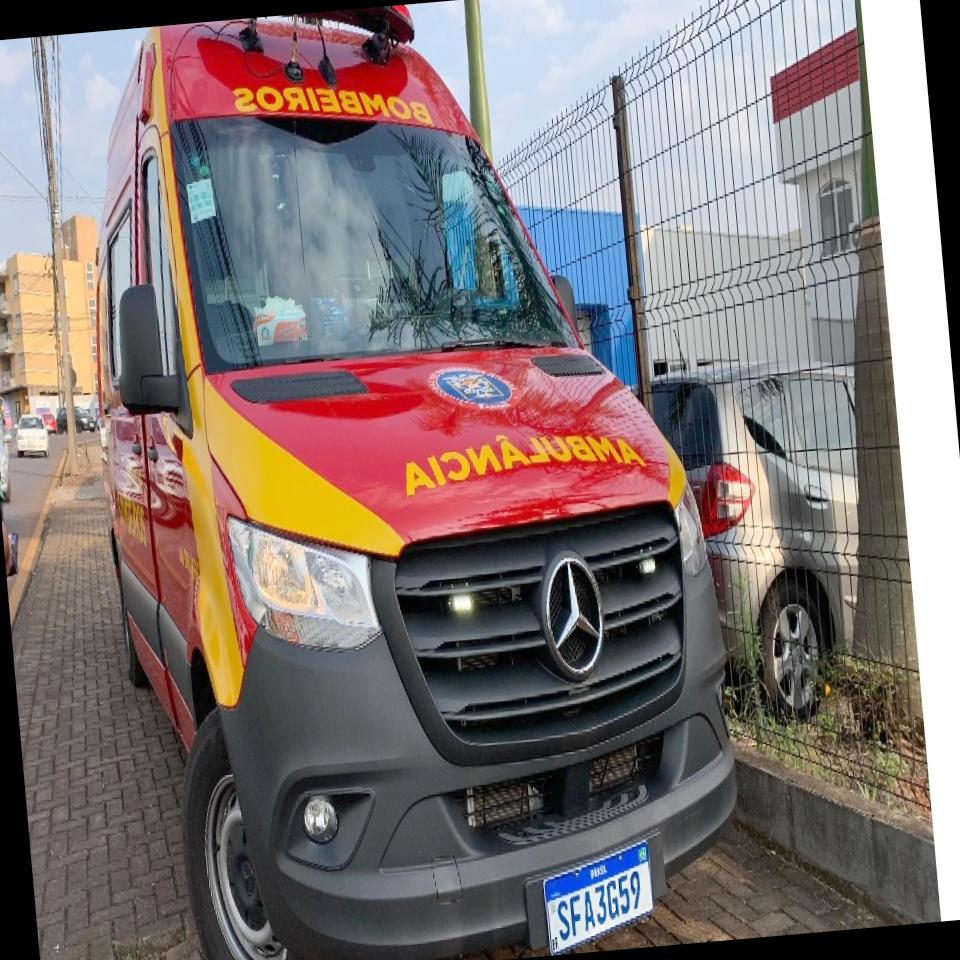viatura: (64, 0, 752, 960)
